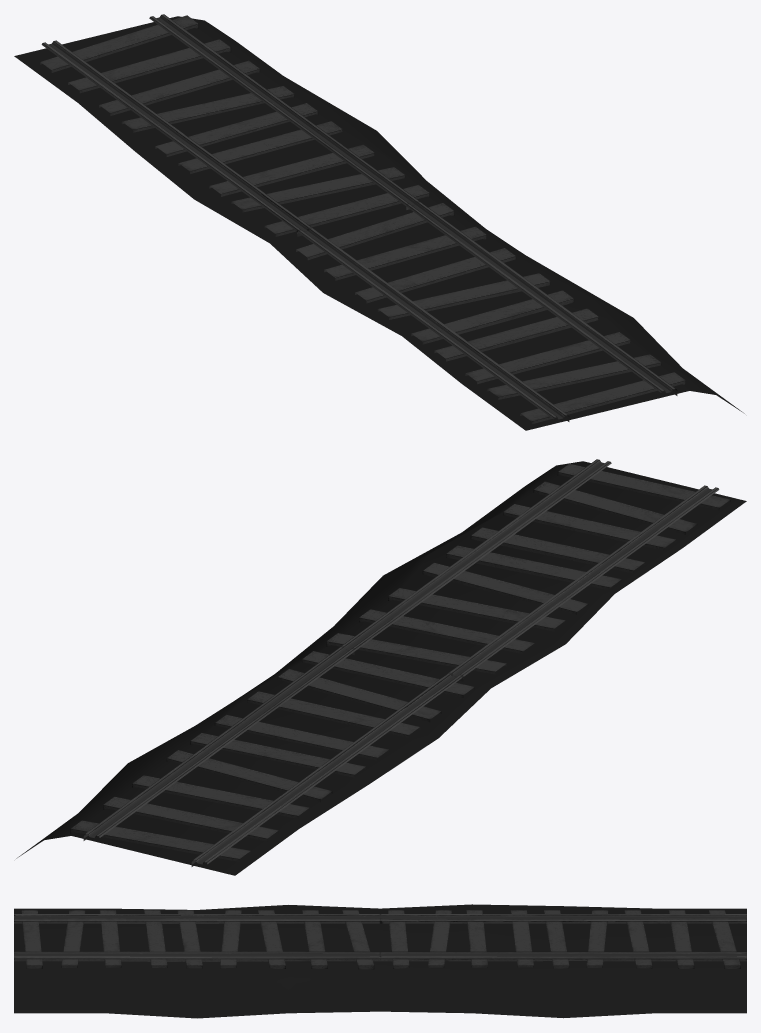
The model's file is SM_Ground_Rail.fbx.
3 renders of one model, top to bottom at view 1: azimuth 30°, elevation 25°; view 2: azimuth 150°, elevation 25°; view 3: azimuth 270°, elevation 25°, orthographic. The views are drawn at different scales.
Visible parts, largest first — view 1: SM_Ground_Rails; view 2: SM_Ground_Rails; view 3: SM_Ground_Rails.
Part boxes in pixels (x1,y1,x2,y2): SM_Ground_Rails: (14, 14, 744, 430); SM_Ground_Rails: (16, 459, 746, 875); SM_Ground_Rails: (14, 904, 746, 1018).
Size of the model in its own units: 335 by 57.62 by 1200.
